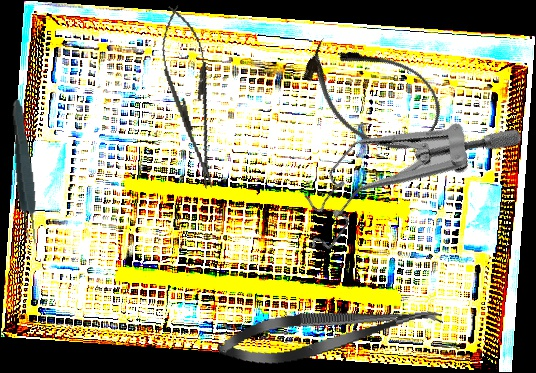Cannula: (288, 20, 456, 168)
Micro Scissor: (214, 291, 446, 373)
Needle Holder: (151, 1, 230, 194)
Speculum: (278, 50, 528, 309)
Tissue Forceps: (6, 97, 42, 248)
